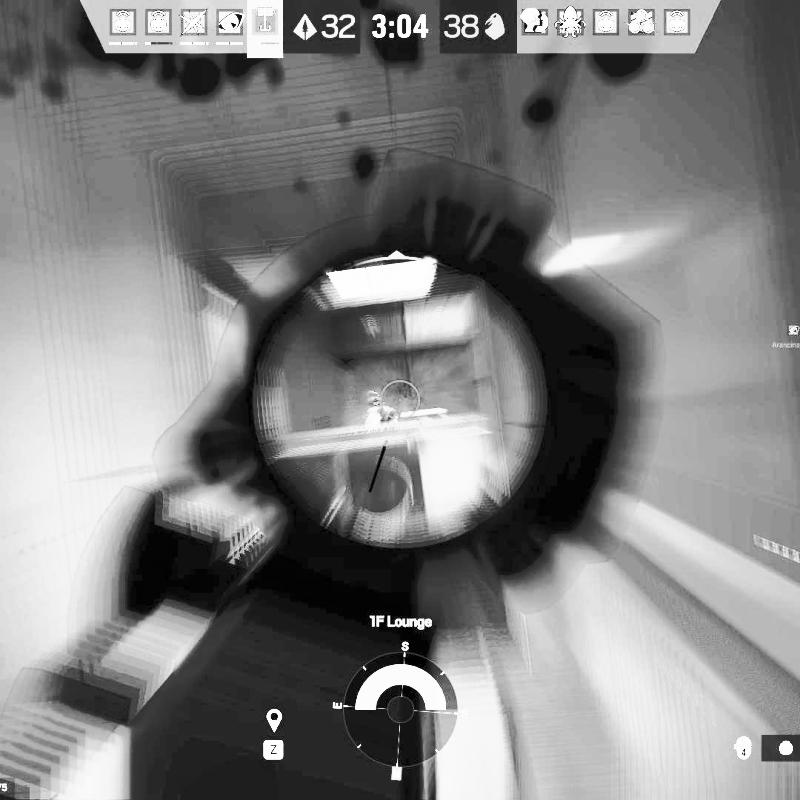Character: (365, 388, 403, 423)
Friend_label: (772, 323, 800, 350)
Head: (368, 391, 382, 407)
